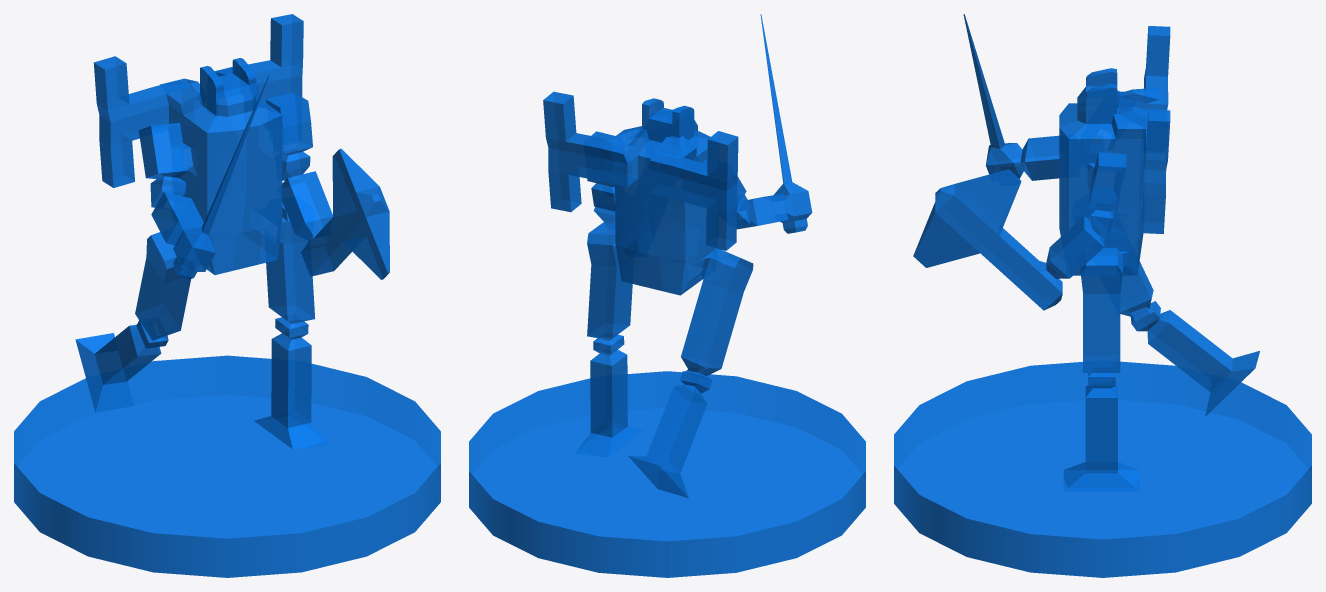
File: BlueTeamRobot.fbx
3 renders of one model, left to right at view 1: azimuth 30°, elevation 25°; view 2: azimuth 150°, elevation 25°; view 3: azimuth 270°, elevation 25°, orthographic. The views are drawn at different scales.
Visible parts, largest first — view 1: Base, Robot; view 2: Base, Robot; view 3: Base, Robot.
Boxes of the visible parts, x1=… form: Base: x1=14, y1=355, x2=440, y2=577; Robot: x1=75, y1=14, x2=389, y2=449; Base: x1=469, y1=371, x2=865, y2=577; Robot: x1=543, y1=14, x2=812, y2=498; Base: x1=894, y1=361, x2=1311, y2=577; Robot: x1=913, y1=14, x2=1259, y2=490.
Bounding box in the file's own units: 39.37 × 47.13 × 38.77.
